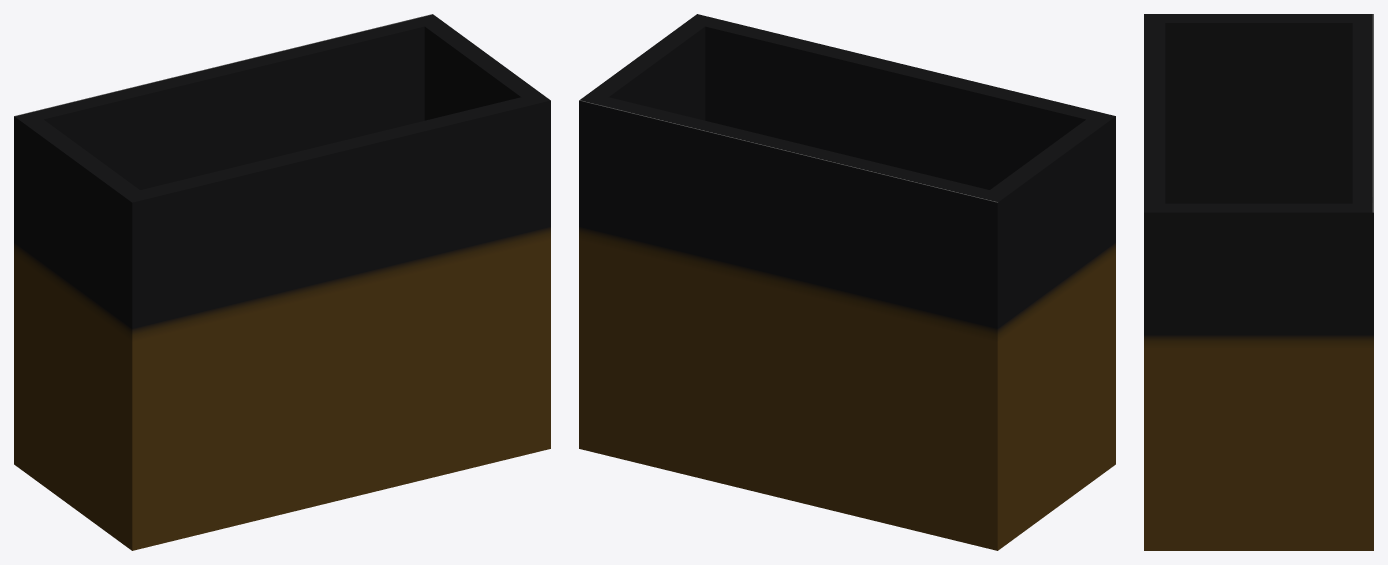
The model's file is trashcan.FBX.
3 views of the same model, side by side, from view 1: azimuth 30°, elevation 25°; view 2: azimuth 150°, elevation 25°; view 3: azimuth 270°, elevation 25° (orthographic). The views are drawn at different scales.
Parts seen in each view (by area): view 1: Box001_Box001_auv; view 2: Box001_Box001_auv; view 3: Box001_Box001_auv.
Part boxes in pixels (box(x1,y1,x2,y2)): Box001_Box001_auv: box(14, 14, 550, 550); Box001_Box001_auv: box(579, 14, 1115, 550); Box001_Box001_auv: box(1144, 14, 1373, 550).
Bounding box in the file's own units: 184 × 146 × 89.99.
1 material, 1 textured.
